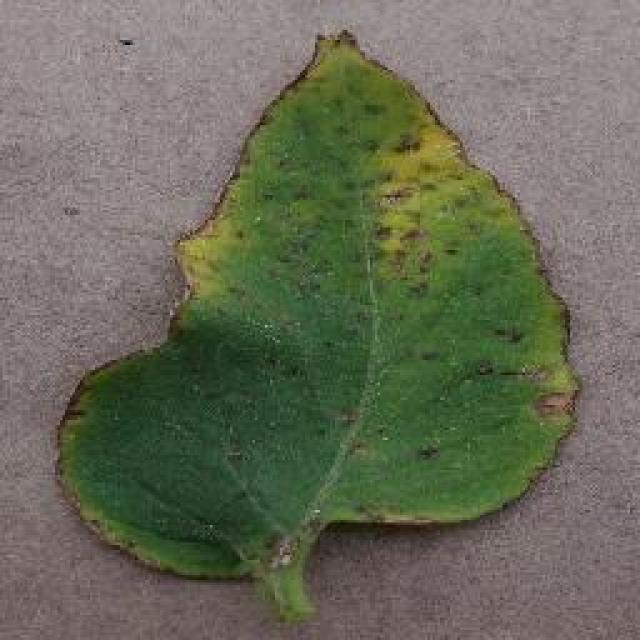bacterial spot: (55, 26, 579, 620)
